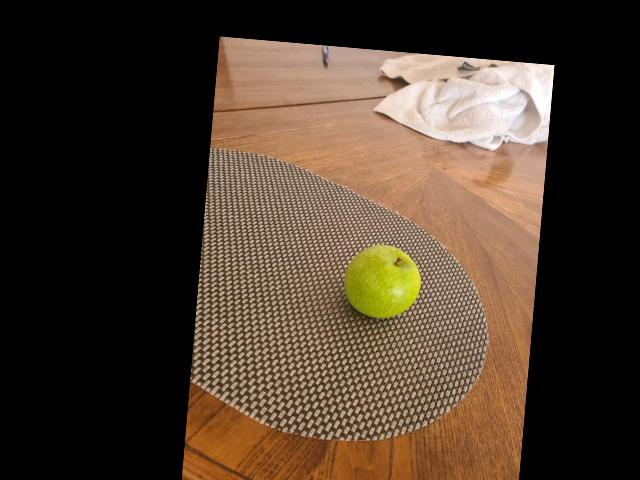apple: (345, 242, 423, 321)
